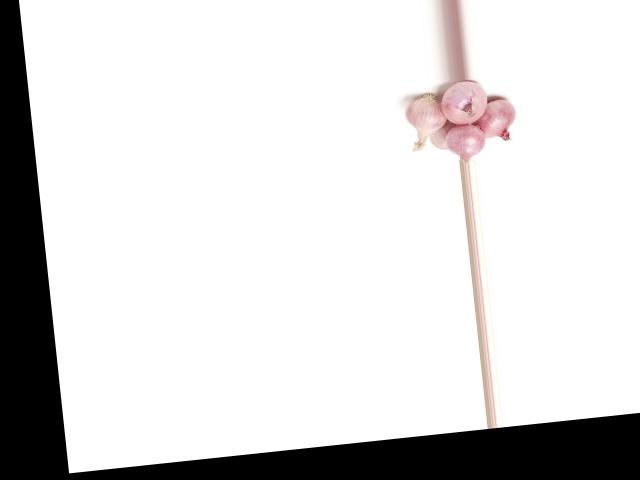onion: (429, 77, 490, 127)
